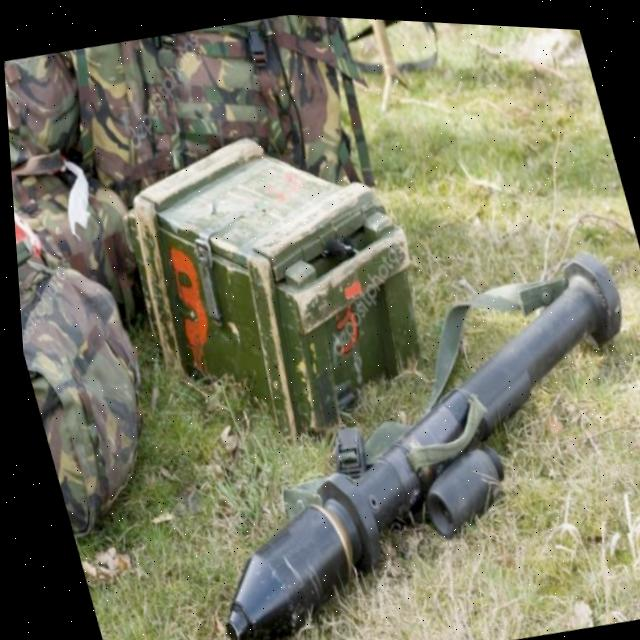rocket: (120, 183, 640, 640)
